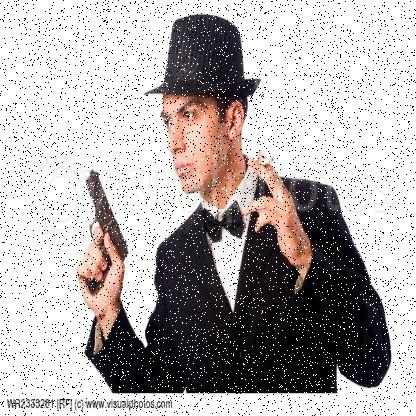pistol: (77, 171, 129, 294)
